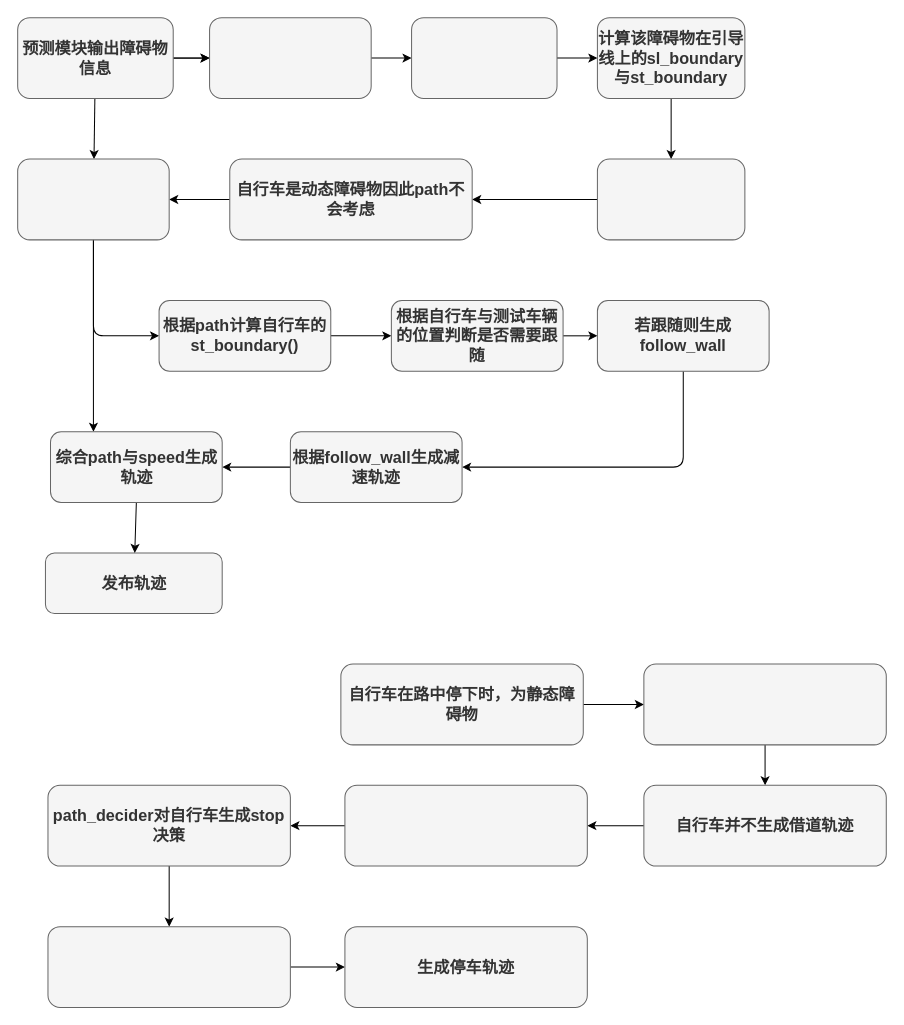
The diagram is 904 pixels wide and 1025 high, and some of its shapes have lost their labels. The shapes that lost their labels are listed below. From the top down, each one's centre as x and y in pixels, then its label:
At [290,57]: "障碍物传入reference_line_info中".
At [484,57]: "计算该障碍物的is_static属性".
At [93,199]: "生成path".
At [670,199]: "根据reference_line_info规划轨迹".
At [764,704]: "计算该障碍物在引导线上的sl_boundary".
At [465,825]: "自行车阻挡lane因此形成终点在行人前方的path".
At [168,966]: "根据stop_wall生成st_bound".
